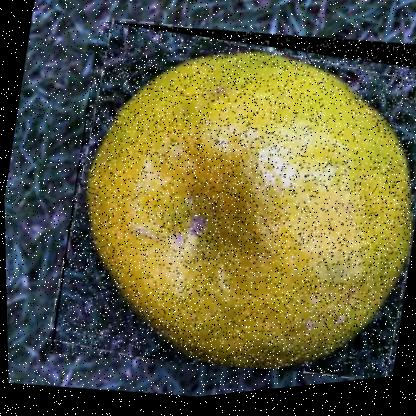orange: (40, 0, 415, 412)
